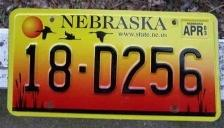1: (20, 42, 42, 92)
2: (121, 44, 149, 96)
5: (147, 45, 175, 97)
6: (178, 47, 206, 96)
8: (46, 44, 76, 94)
D: (90, 44, 120, 96)
